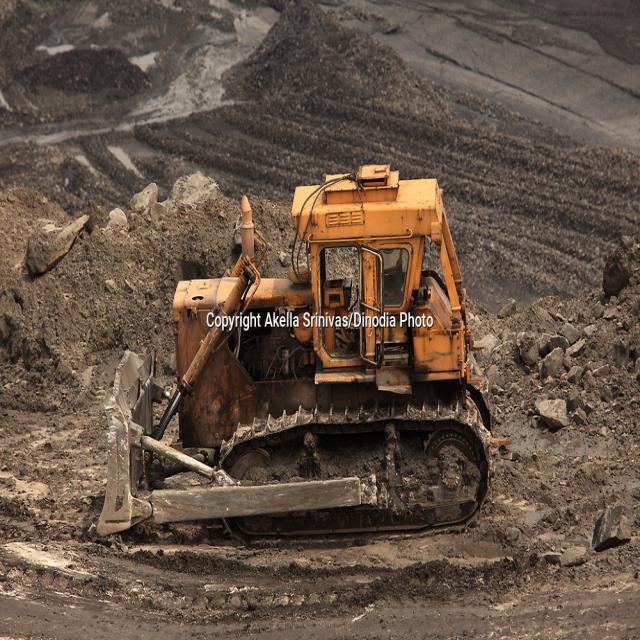buldozerpayloadergrader: (102, 169, 503, 563)
